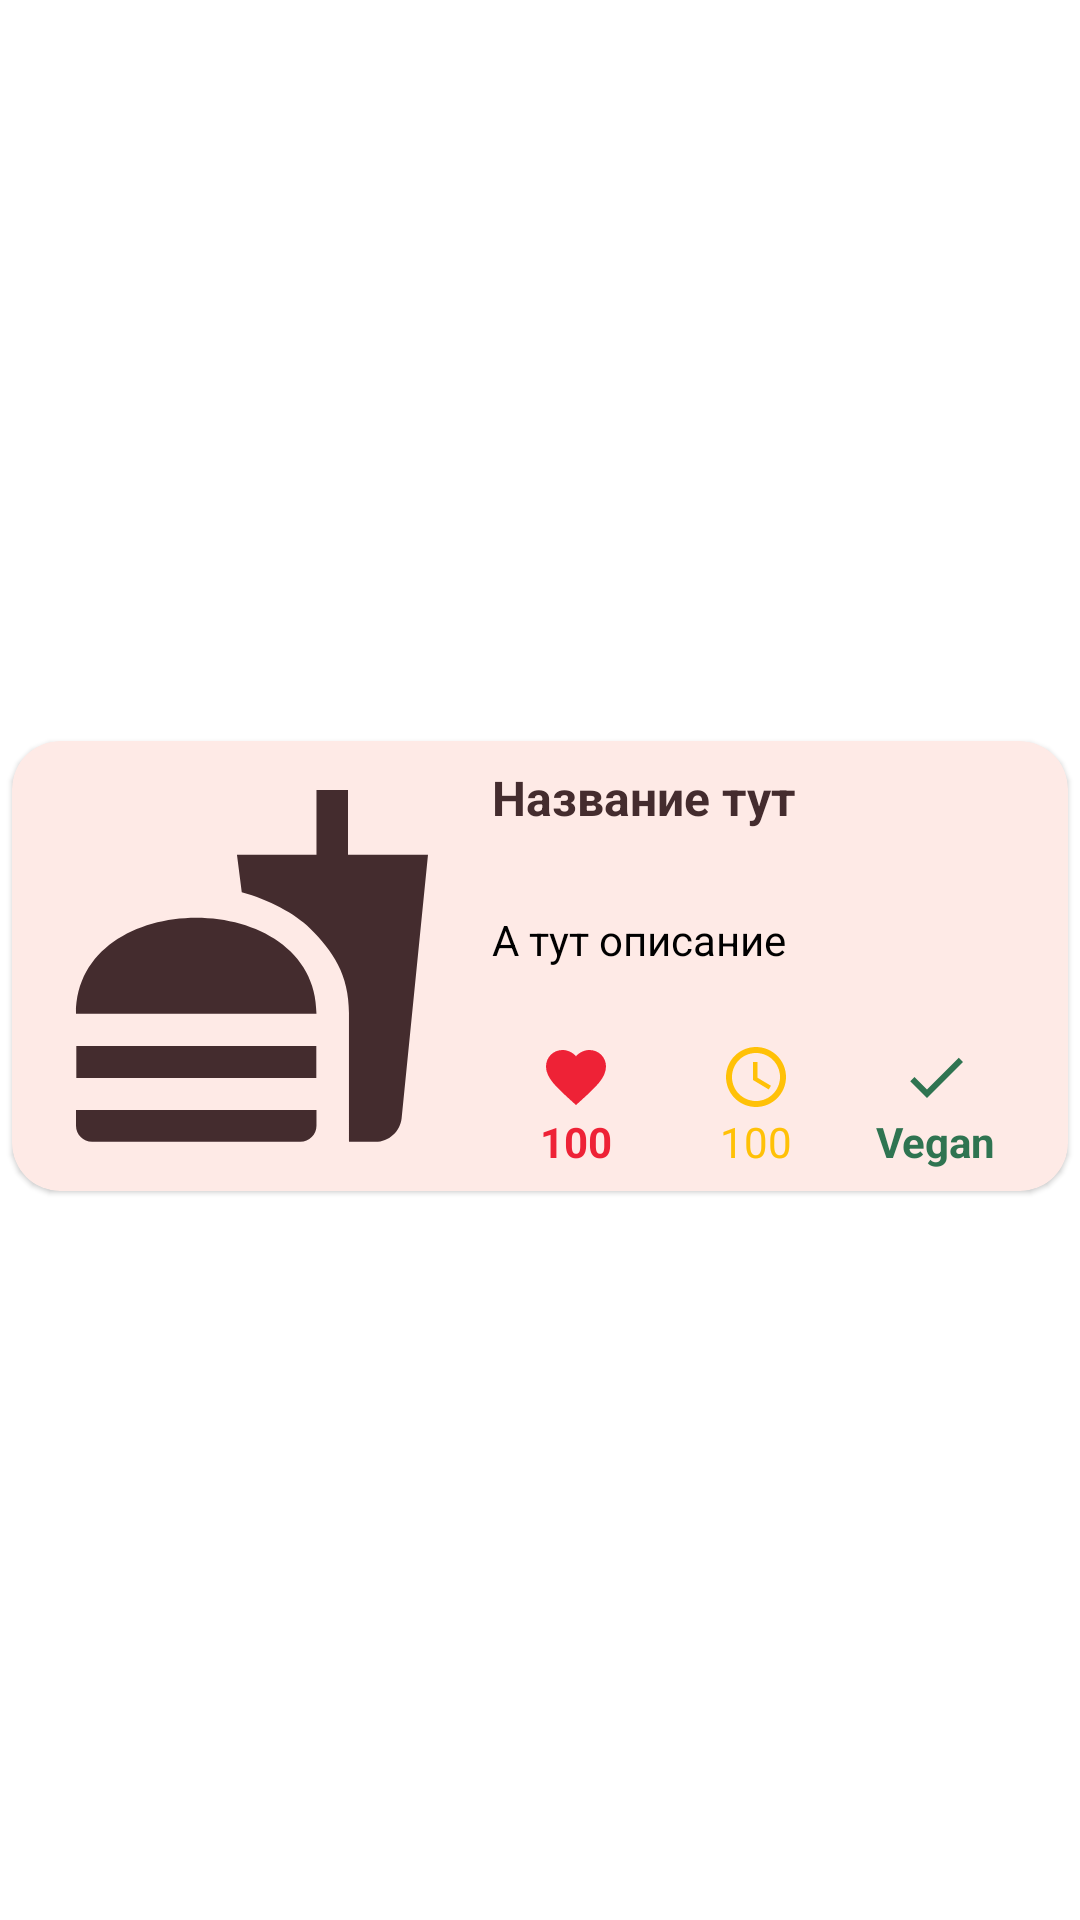

Locate icon controls on the screen. Image size 1080px x 1920px, boxes as rect(x1, y1, x2, y2).
access time: rect(726, 1047, 786, 1107)
check: rect(910, 1058, 963, 1098)
fastfood: rect(76, 790, 428, 1142)
favorite: rect(546, 1050, 606, 1105)
